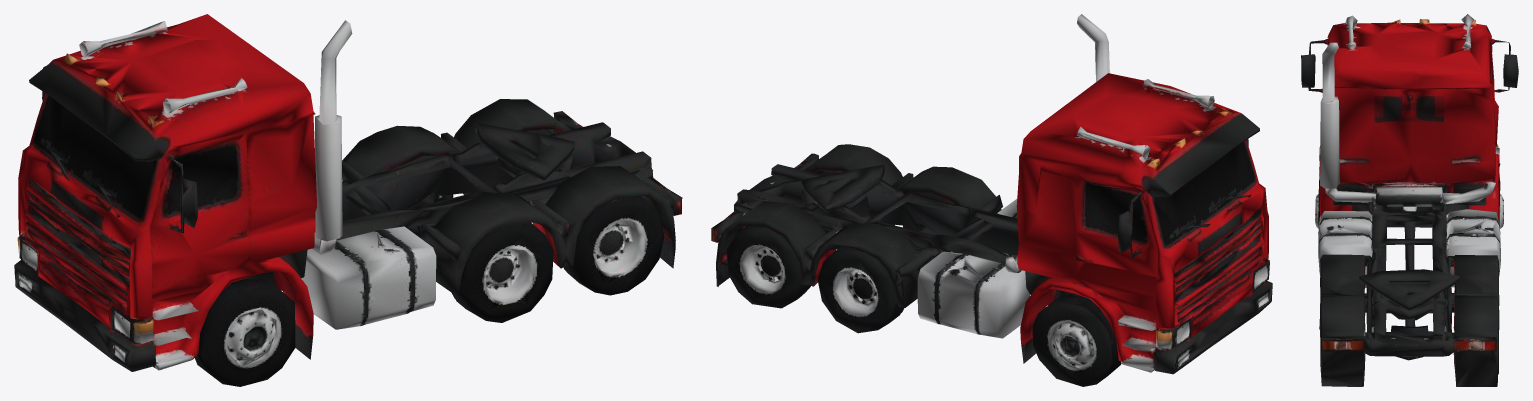
Rendered from tractor_rojo.glb.
3 views of the same model, side by side, from view 1: azimuth 30°, elevation 25°; view 2: azimuth 150°, elevation 25°; view 3: azimuth 270°, elevation 25° (orthographic). The views are drawn at different scales.
Bounding box in the file's own units: 5.6 × 3.16 × 2.58.
1 material, 1 textured.
